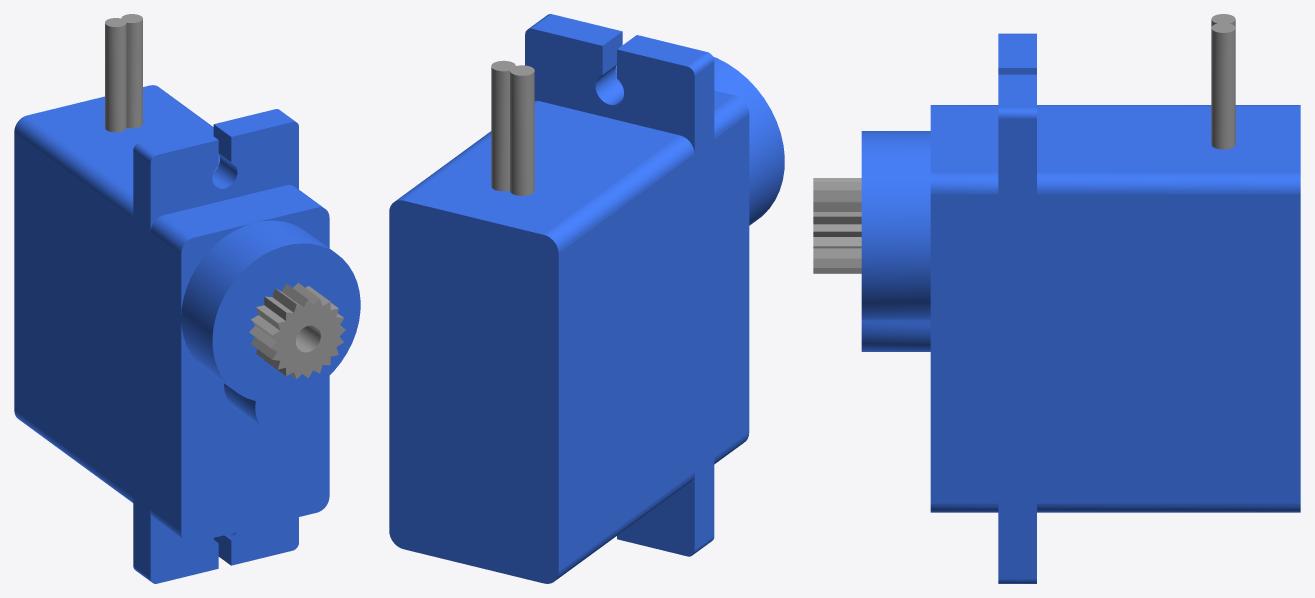
The model's file is 2941 Micro DC Motor.glb.
3 views of the same model, side by side, from view 1: azimuth 30°, elevation 25°; view 2: azimuth 150°, elevation 25°; view 3: azimuth 270°, elevation 25° (orthographic). The views are drawn at different scales.
Visible parts, largest first — view 1: Micro DC Motor 2941 v3; view 2: Micro DC Motor 2941 v3; view 3: Micro DC Motor 2941 v3.
Part boxes in pixels (x1,y1,x2,y2): Micro DC Motor 2941 v3: (14, 14, 360, 583); Micro DC Motor 2941 v3: (389, 14, 784, 583); Micro DC Motor 2941 v3: (813, 14, 1300, 583).
Bounding box in the file's own units: 11.8 × 35.9 × 30.3.
